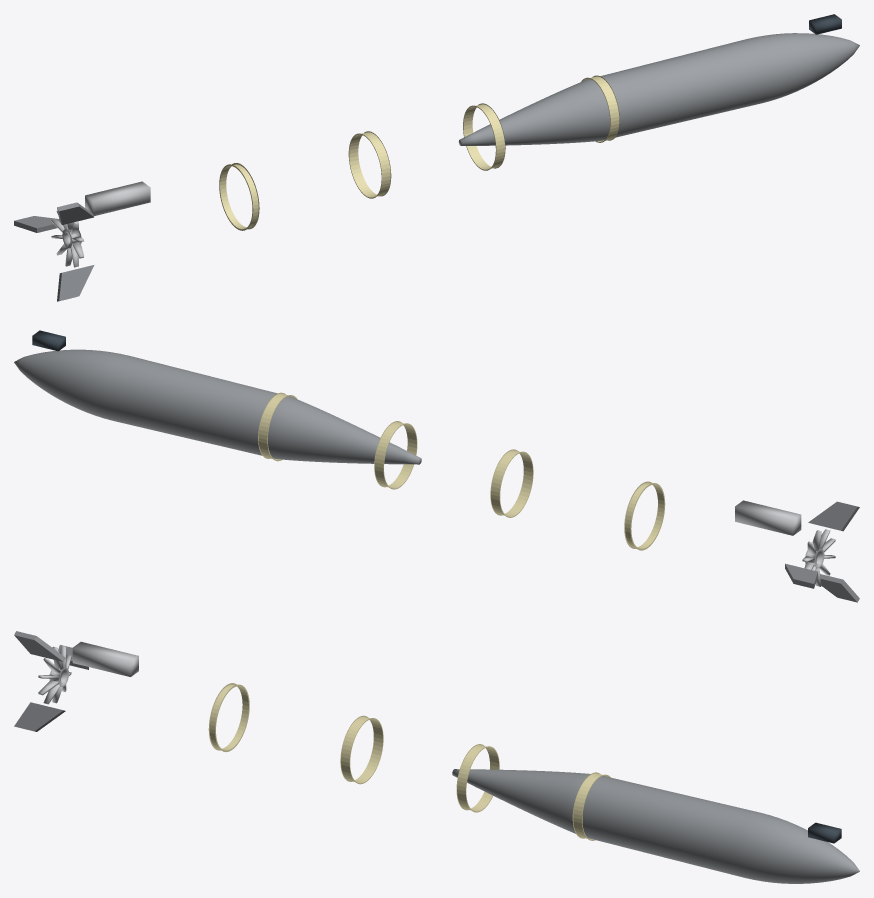
The model's file is IN_TORP_Varunastra_LOD0.fbx.
The picture shows the model from 3 angles, top to bottom: view 1: azimuth 30°, elevation 25°; view 2: azimuth 150°, elevation 25°; view 3: azimuth 330°, elevation 25°; orthographic projection.
Parts seen in each view (by area): view 1: WPN_IN_TORP_Varunastra_LOD0_Body, WPN_IN_TORP_Varunastra_LOD0_Marking, WPN_IN_TORP_Varunastra_LOD0_Fins, WPN_IN_TORP_Varunastra_LOD0_Detail, WPN_IN_TORP_Varunastra_LOD0_Propulsor; view 2: WPN_IN_TORP_Varunastra_LOD0_Body, WPN_IN_TORP_Varunastra_LOD0_Marking, WPN_IN_TORP_Varunastra_LOD0_Fins, WPN_IN_TORP_Varunastra_LOD0_Detail, WPN_IN_TORP_Varunastra_LOD0_Propulsor, WPN_IN_TORP_Varunastra_LOD0_Seeker; view 3: WPN_IN_TORP_Varunastra_LOD0_Body, WPN_IN_TORP_Varunastra_LOD0_Marking, WPN_IN_TORP_Varunastra_LOD0_Fins, WPN_IN_TORP_Varunastra_LOD0_Detail, WPN_IN_TORP_Varunastra_LOD0_Propulsor, WPN_IN_TORP_Varunastra_LOD0_Seeker.
Boxes of the visible parts, x1,y1,x2,y2 form: WPN_IN_TORP_Varunastra_LOD0_Body: (458, 33, 859, 145); WPN_IN_TORP_Varunastra_LOD0_Marking: (219, 75, 619, 230); WPN_IN_TORP_Varunastra_LOD0_Fins: (14, 202, 94, 301); WPN_IN_TORP_Varunastra_LOD0_Detail: (85, 181, 150, 215); WPN_IN_TORP_Varunastra_LOD0_Propulsor: (51, 211, 83, 267); WPN_IN_TORP_Varunastra_LOD0_Body: (14, 349, 421, 464); WPN_IN_TORP_Varunastra_LOD0_Marking: (258, 392, 665, 550); WPN_IN_TORP_Varunastra_LOD0_Fins: (785, 501, 859, 602); WPN_IN_TORP_Varunastra_LOD0_Detail: (735, 500, 801, 535); WPN_IN_TORP_Varunastra_LOD0_Propulsor: (802, 529, 835, 586); WPN_IN_TORP_Varunastra_LOD0_Seeker: (32, 330, 65, 351); WPN_IN_TORP_Varunastra_LOD0_Body: (452, 769, 859, 883); WPN_IN_TORP_Varunastra_LOD0_Marking: (208, 683, 610, 840); WPN_IN_TORP_Varunastra_LOD0_Fins: (14, 631, 88, 731); WPN_IN_TORP_Varunastra_LOD0_Detail: (72, 641, 138, 676); WPN_IN_TORP_Varunastra_LOD0_Propulsor: (38, 645, 71, 704); WPN_IN_TORP_Varunastra_LOD0_Seeker: (808, 822, 841, 843).
Bounding box in the file's own units: 7.6 × 0.7478 × 0.8411.
